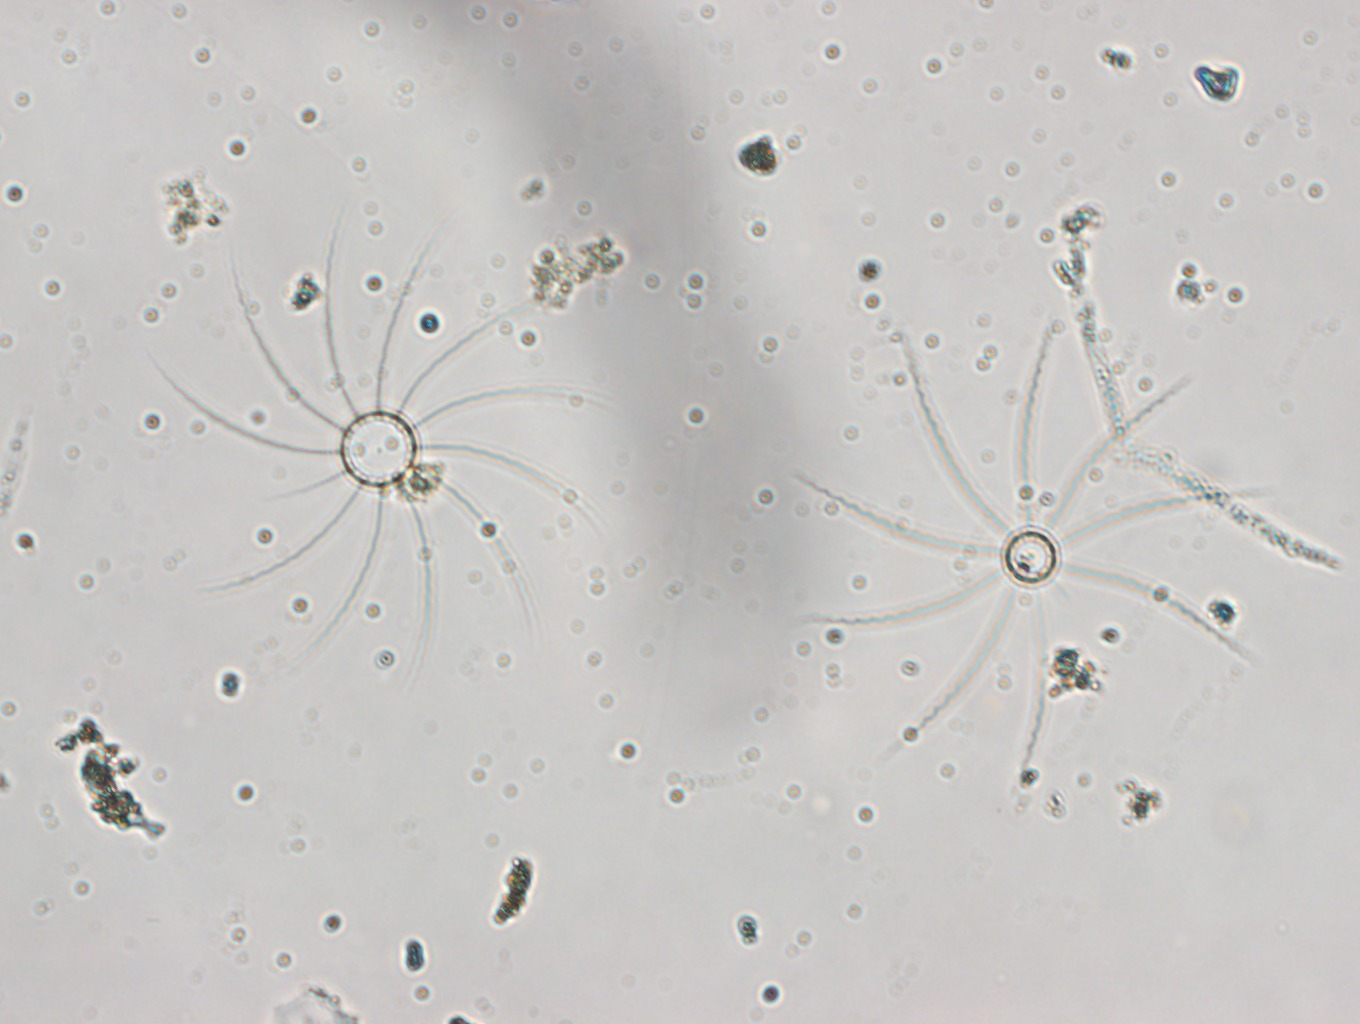bacteriastrum: (789, 296, 1280, 781), (141, 207, 610, 697)
